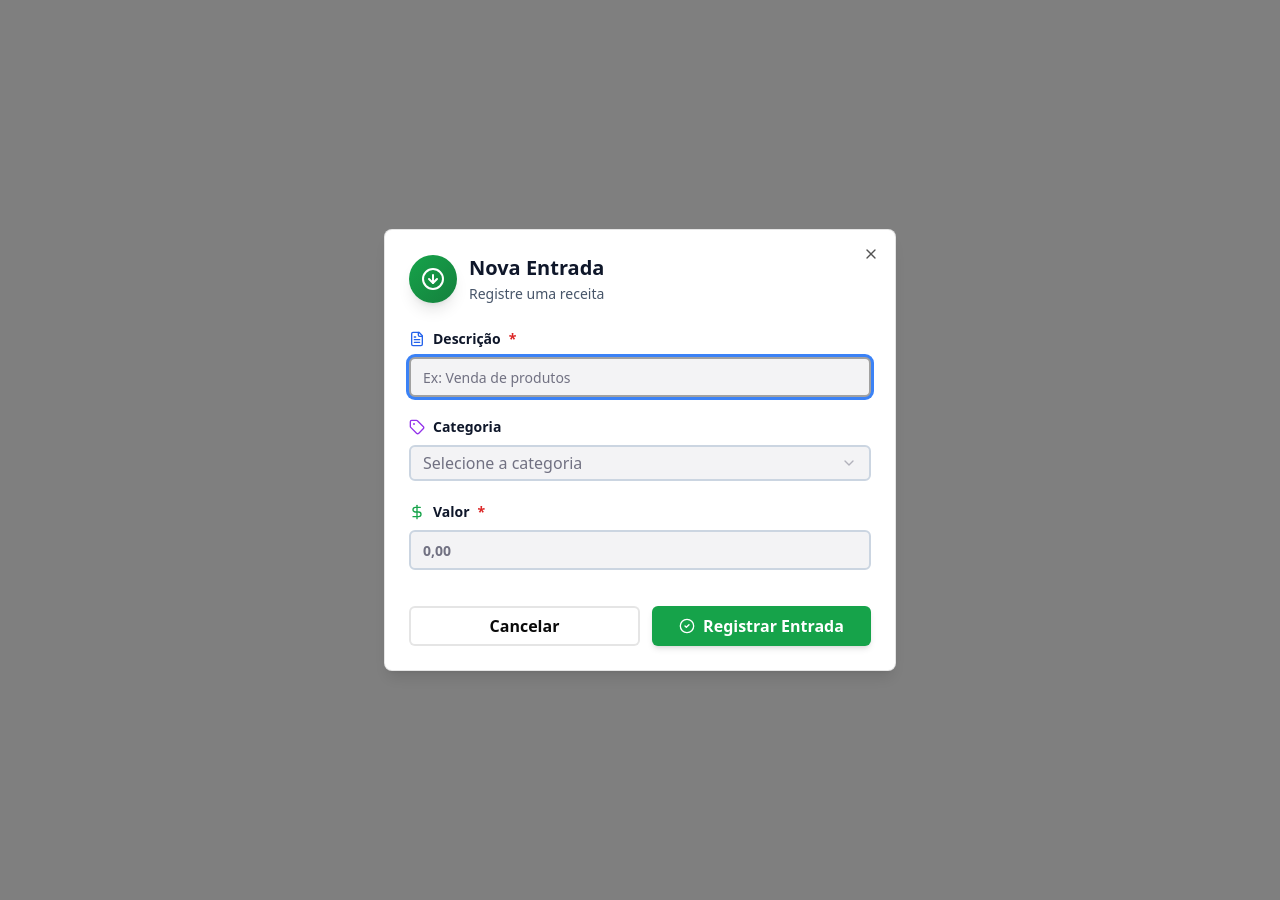
Test: NewTransactionDialog - Comprehensive Tests › Form Input › should allow selecting a category
Click the dropdown labelled "Selecione a categoria" at (503, 463), box [409,445,871,481]
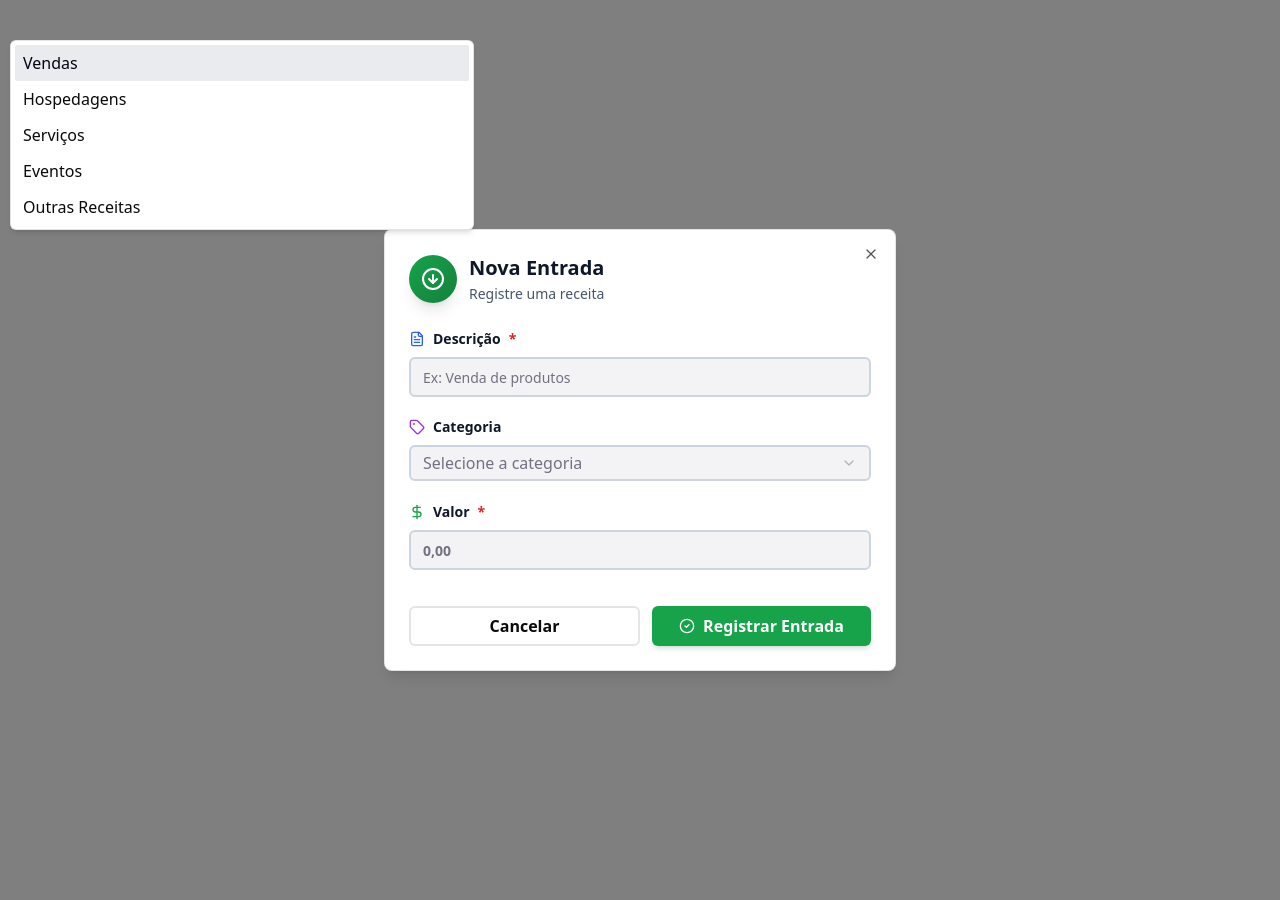
Check: the option "Vendas" is shown
Click the option "Vendas" at (50, 63), box [15,45,469,81]
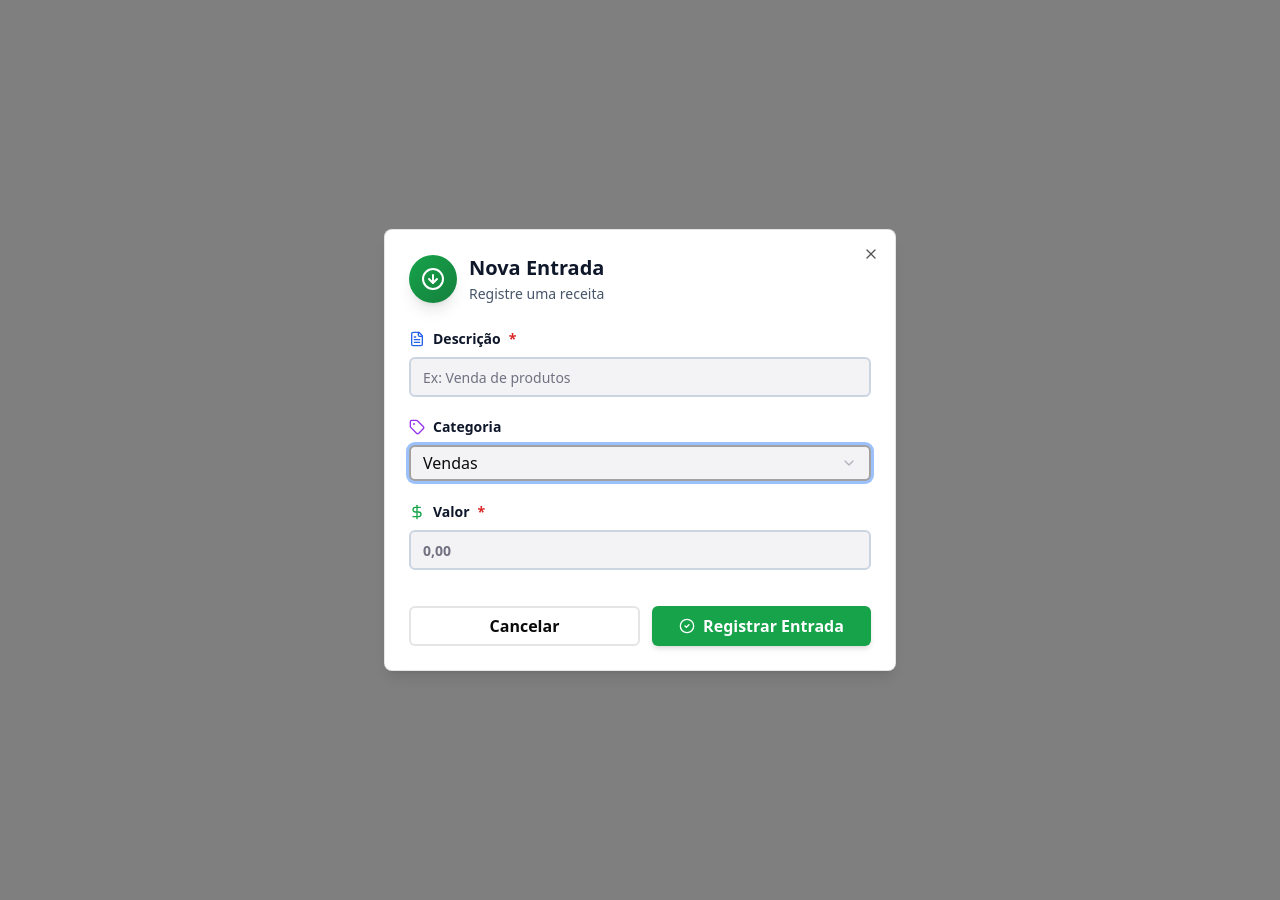
Check: the dropdown named "categoria" reads "Vendas", box [409,445,871,481]
